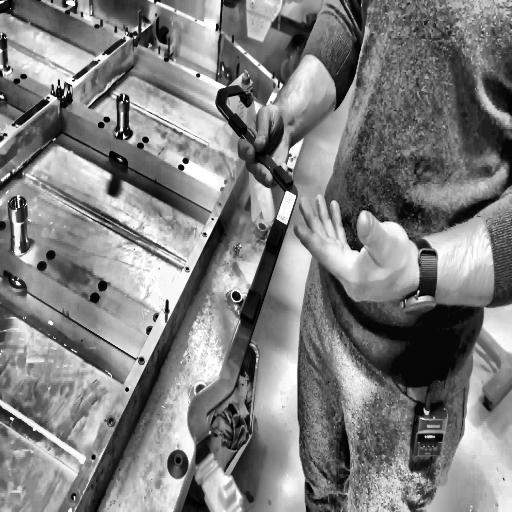b_casing: (0, 0, 309, 512)
busbar: (186, 65, 307, 512)
